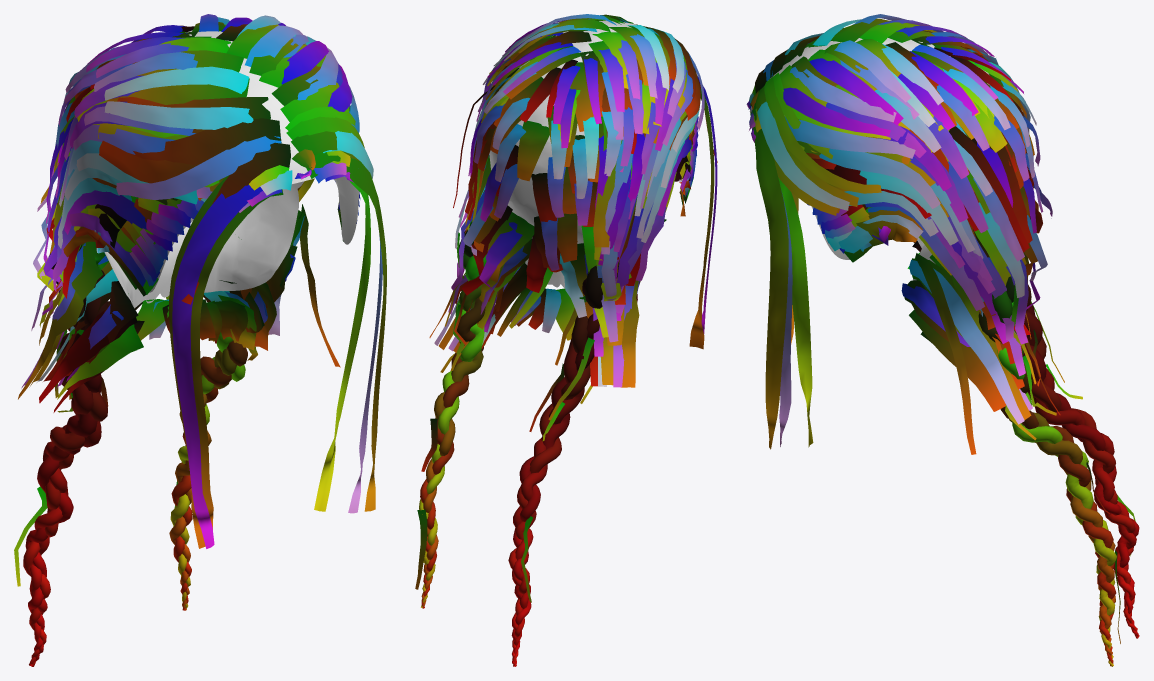
The model's file is Sol_F54.fbx.
3 views of the same model, side by side, from view 1: azimuth 30°, elevation 25°; view 2: azimuth 150°, elevation 25°; view 3: azimuth 270°, elevation 25° (orthographic). The views are drawn at different scales.
Visible parts, largest first — view 1: Sol_F54_Cards, Sol_F54_Cap; view 2: Sol_F54_Cards, Sol_F54_Cap; view 3: Sol_F54_Cards, Sol_F54_Cap.
Part boxes in pixels (bbox=[...]): Sol_F54_Cards: bbox=[14, 14, 386, 666]; Sol_F54_Cap: bbox=[104, 30, 359, 308]; Sol_F54_Cards: bbox=[415, 14, 717, 666]; Sol_F54_Cap: bbox=[489, 20, 636, 288]; Sol_F54_Cards: bbox=[746, 14, 1139, 666]; Sol_F54_Cap: bbox=[749, 38, 989, 280].
Size of the model in its own units: 19.43 by 44.14 by 25.32.
